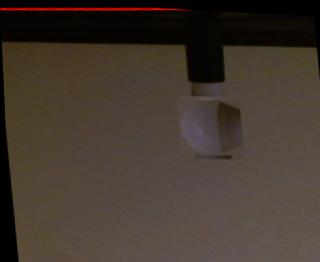Fan: (177, 93, 241, 158)
